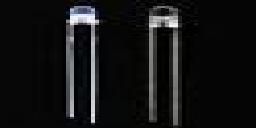LED: (63, 3, 103, 123), (147, 4, 185, 128)
